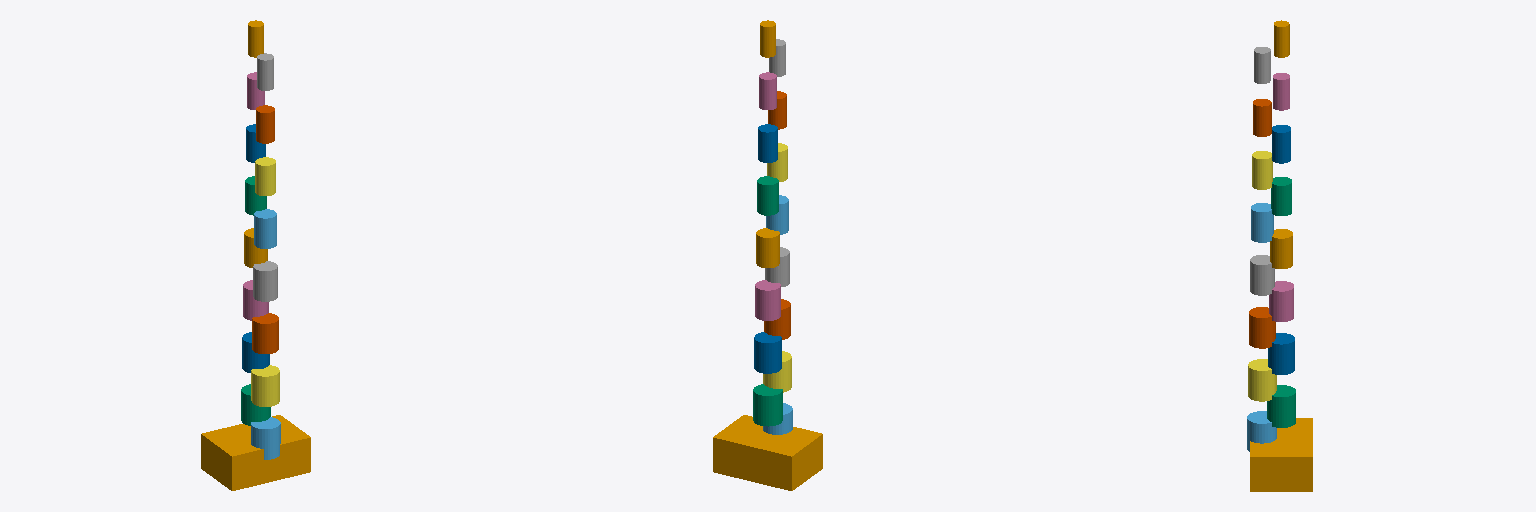
robot.urdf — mini_cheetah_urdf:
<?xml version="1.0" encoding="utf-8"?>
<!-- LOCAL_GENERATED_DEMONSTRATION_NOT_UPSTREAM: 历史本地生成的示意链，非原厂/上游原件；不可用于真实结构或控制验证。真实来源请从档案目录选择 PRIMARY 文件。 -->
<!-- =================================================================================== -->
<!-- 历史生成示意（非上游原件）: mini_cheetah_urdf (urdf/laikago_toes_limits.urdf)                                          -->
<!-- 机型描述: MIT 麻省理工 Mini Cheetah 猎豹高动态四足机器人 URDF 基准                                                                   -->
<!-- 历史目录机型统计（并非本示意链）: 17 连杆 / 16 关节                                                    -->
<!-- =================================================================================== -->
<robot name="mini_cheetah_urdf">
  <link name="base_link">
    <inertial>
      <origin xyz="0 0 0.08" rpy="0 0 0"/>
      <mass value="16.40"/>
      <inertia ixx="0.185" ixy="0.0" ixz="0.0" iyy="0.240" iyz="0.0" izz="0.295"/>
    </inertial>
    <visual>
      <origin xyz="0 0 0.08" rpy="0 0 0"/>
      <geometry><box size="0.38 0.26 0.16"/></geometry>
    </visual>
    <collision>
      <origin xyz="0 0 0.08" rpy="0 0 0"/>
      <geometry><box size="0.38 0.26 0.16"/></geometry>
    </collision>
  </link>

  <link name="link_1">
    <inertial>
      <origin xyz="0 0 0.06" rpy="0 0 0"/>
      <mass value="3.200"/>
      <inertia ixx="0.014" ixy="0.0" ixz="0.0" iyy="0.014" iyz="0.0" izz="0.008"/>
    </inertial>
    <visual>
      <origin xyz="0 0 0.06" rpy="0 0 0"/>
      <geometry><cylinder radius="0.063" length="0.14"/></geometry>
    </visual>
  </link>
  <joint name="joint_1" type="revolute">
    <parent link="base_link"/>
    <child link="link_1"/>
    <origin xyz="0 -0.080 0.12" rpy="0 0 0"/>
    <axis xyz="1 0 0"/>
    <limit lower="-2.7925" upper="2.7925" effort="85.0" velocity="6.28"/>
  </joint>

  <link name="link_2">
    <inertial>
      <origin xyz="0 0 0.06" rpy="0 0 0"/>
      <mass value="2.263"/>
      <inertia ixx="0.014" ixy="0.0" ixz="0.0" iyy="0.014" iyz="0.0" izz="0.008"/>
    </inertial>
    <visual>
      <origin xyz="0 0 0.06" rpy="0 0 0"/>
      <geometry><cylinder radius="0.061" length="0.14"/></geometry>
    </visual>
  </link>
  <joint name="joint_2" type="revolute">
    <parent link="link_1"/>
    <child link="link_2"/>
    <origin xyz="0 0.080 0.12" rpy="0 0 0"/>
    <axis xyz="0 1 0"/>
    <limit lower="-2.7925" upper="2.7925" effort="85.0" velocity="6.28"/>
  </joint>

  <link name="link_3">
    <inertial>
      <origin xyz="0 0 0.06" rpy="0 0 0"/>
      <mass value="1.848"/>
      <inertia ixx="0.014" ixy="0.0" ixz="0.0" iyy="0.014" iyz="0.0" izz="0.008"/>
    </inertial>
    <visual>
      <origin xyz="0 0 0.06" rpy="0 0 0"/>
      <geometry><cylinder radius="0.059" length="0.14"/></geometry>
    </visual>
  </link>
  <joint name="joint_3" type="revolute">
    <parent link="link_2"/>
    <child link="link_3"/>
    <origin xyz="0 -0.080 0.12" rpy="0 0 0"/>
    <axis xyz="0 0 1"/>
    <limit lower="-2.7925" upper="2.7925" effort="85.0" velocity="6.28"/>
  </joint>

  <link name="link_4">
    <inertial>
      <origin xyz="0 0 0.06" rpy="0 0 0"/>
      <mass value="1.600"/>
      <inertia ixx="0.014" ixy="0.0" ixz="0.0" iyy="0.014" iyz="0.0" izz="0.008"/>
    </inertial>
    <visual>
      <origin xyz="0 0 0.06" rpy="0 0 0"/>
      <geometry><cylinder radius="0.057" length="0.14"/></geometry>
    </visual>
  </link>
  <joint name="joint_4" type="revolute">
    <parent link="link_3"/>
    <child link="link_4"/>
    <origin xyz="0 0.080 0.12" rpy="0 0 0"/>
    <axis xyz="0 1 0"/>
    <limit lower="-2.7925" upper="2.7925" effort="85.0" velocity="6.28"/>
  </joint>

  <link name="link_5">
    <inertial>
      <origin xyz="0 0 0.06" rpy="0 0 0"/>
      <mass value="1.431"/>
      <inertia ixx="0.014" ixy="0.0" ixz="0.0" iyy="0.014" iyz="0.0" izz="0.008"/>
    </inertial>
    <visual>
      <origin xyz="0 0 0.06" rpy="0 0 0"/>
      <geometry><cylinder radius="0.055" length="0.14"/></geometry>
    </visual>
  </link>
  <joint name="joint_5" type="revolute">
    <parent link="link_4"/>
    <child link="link_5"/>
    <origin xyz="0 -0.080 0.12" rpy="0 0 0"/>
    <axis xyz="1 0 0"/>
    <limit lower="-2.7925" upper="2.7925" effort="85.0" velocity="6.28"/>
  </joint>

  <link name="link_6">
    <inertial>
      <origin xyz="0 0 0.06" rpy="0 0 0"/>
      <mass value="1.306"/>
      <inertia ixx="0.014" ixy="0.0" ixz="0.0" iyy="0.014" iyz="0.0" izz="0.008"/>
    </inertial>
    <visual>
      <origin xyz="0 0 0.06" rpy="0 0 0"/>
      <geometry><cylinder radius="0.053" length="0.14"/></geometry>
    </visual>
  </link>
  <joint name="joint_6" type="revolute">
    <parent link="link_5"/>
    <child link="link_6"/>
    <origin xyz="0 0.080 0.12" rpy="0 0 0"/>
    <axis xyz="0 0 1"/>
    <limit lower="-2.7925" upper="2.7925" effort="85.0" velocity="6.28"/>
  </joint>

  <link name="link_7">
    <inertial>
      <origin xyz="0 0 0.06" rpy="0 0 0"/>
      <mass value="1.209"/>
      <inertia ixx="0.014" ixy="0.0" ixz="0.0" iyy="0.014" iyz="0.0" izz="0.008"/>
    </inertial>
    <visual>
      <origin xyz="0 0 0.06" rpy="0 0 0"/>
      <geometry><cylinder radius="0.051" length="0.14"/></geometry>
    </visual>
  </link>
  <joint name="joint_7" type="revolute">
    <parent link="link_6"/>
    <child link="link_7"/>
    <origin xyz="0 -0.080 0.12" rpy="0 0 0"/>
    <axis xyz="1 0 0"/>
    <limit lower="-2.7925" upper="2.7925" effort="85.0" velocity="6.28"/>
  </joint>

  <link name="link_8">
    <inertial>
      <origin xyz="0 0 0.06" rpy="0 0 0"/>
      <mass value="1.131"/>
      <inertia ixx="0.014" ixy="0.0" ixz="0.0" iyy="0.014" iyz="0.0" izz="0.008"/>
    </inertial>
    <visual>
      <origin xyz="0 0 0.06" rpy="0 0 0"/>
      <geometry><cylinder radius="0.049" length="0.14"/></geometry>
    </visual>
  </link>
  <joint name="joint_8" type="revolute">
    <parent link="link_7"/>
    <child link="link_8"/>
    <origin xyz="0 0.080 0.12" rpy="0 0 0"/>
    <axis xyz="0 1 0"/>
    <limit lower="-2.7925" upper="2.7925" effort="85.0" velocity="6.28"/>
  </joint>

  <link name="link_9">
    <inertial>
      <origin xyz="0 0 0.06" rpy="0 0 0"/>
      <mass value="1.067"/>
      <inertia ixx="0.014" ixy="0.0" ixz="0.0" iyy="0.014" iyz="0.0" izz="0.008"/>
    </inertial>
    <visual>
      <origin xyz="0 0 0.06" rpy="0 0 0"/>
      <geometry><cylinder radius="0.047" length="0.14"/></geometry>
    </visual>
  </link>
  <joint name="joint_9" type="revolute">
    <parent link="link_8"/>
    <child link="link_9"/>
    <origin xyz="0 -0.080 0.12" rpy="0 0 0"/>
    <axis xyz="0 0 1"/>
    <limit lower="-2.7925" upper="2.7925" effort="85.0" velocity="6.28"/>
  </joint>

  <link name="link_10">
    <inertial>
      <origin xyz="0 0 0.06" rpy="0 0 0"/>
      <mass value="1.012"/>
      <inertia ixx="0.014" ixy="0.0" ixz="0.0" iyy="0.014" iyz="0.0" izz="0.008"/>
    </inertial>
    <visual>
      <origin xyz="0 0 0.06" rpy="0 0 0"/>
      <geometry><cylinder radius="0.045" length="0.14"/></geometry>
    </visual>
  </link>
  <joint name="joint_10" type="revolute">
    <parent link="link_9"/>
    <child link="link_10"/>
    <origin xyz="0 0.080 0.12" rpy="0 0 0"/>
    <axis xyz="0 1 0"/>
    <limit lower="-2.7925" upper="2.7925" effort="85.0" velocity="6.28"/>
  </joint>

  <link name="link_11">
    <inertial>
      <origin xyz="0 0 0.06" rpy="0 0 0"/>
      <mass value="0.965"/>
      <inertia ixx="0.014" ixy="0.0" ixz="0.0" iyy="0.014" iyz="0.0" izz="0.008"/>
    </inertial>
    <visual>
      <origin xyz="0 0 0.06" rpy="0 0 0"/>
      <geometry><cylinder radius="0.043" length="0.14"/></geometry>
    </visual>
  </link>
  <joint name="joint_11" type="revolute">
    <parent link="link_10"/>
    <child link="link_11"/>
    <origin xyz="0 -0.080 0.12" rpy="0 0 0"/>
    <axis xyz="1 0 0"/>
    <limit lower="-2.7925" upper="2.7925" effort="85.0" velocity="6.28"/>
  </joint>

  <link name="link_12">
    <inertial>
      <origin xyz="0 0 0.06" rpy="0 0 0"/>
      <mass value="0.924"/>
      <inertia ixx="0.014" ixy="0.0" ixz="0.0" iyy="0.014" iyz="0.0" izz="0.008"/>
    </inertial>
    <visual>
      <origin xyz="0 0 0.06" rpy="0 0 0"/>
      <geometry><cylinder radius="0.041" length="0.14"/></geometry>
    </visual>
  </link>
  <joint name="joint_12" type="revolute">
    <parent link="link_11"/>
    <child link="link_12"/>
    <origin xyz="0 0.080 0.12" rpy="0 0 0"/>
    <axis xyz="0 0 1"/>
    <limit lower="-2.7925" upper="2.7925" effort="85.0" velocity="6.28"/>
  </joint>

  <link name="link_13">
    <inertial>
      <origin xyz="0 0 0.06" rpy="0 0 0"/>
      <mass value="0.888"/>
      <inertia ixx="0.014" ixy="0.0" ixz="0.0" iyy="0.014" iyz="0.0" izz="0.008"/>
    </inertial>
    <visual>
      <origin xyz="0 0 0.06" rpy="0 0 0"/>
      <geometry><cylinder radius="0.039" length="0.14"/></geometry>
    </visual>
  </link>
  <joint name="joint_13" type="revolute">
    <parent link="link_12"/>
    <child link="link_13"/>
    <origin xyz="0 -0.080 0.12" rpy="0 0 0"/>
    <axis xyz="1 0 0"/>
    <limit lower="-2.7925" upper="2.7925" effort="85.0" velocity="6.28"/>
  </joint>

  <link name="link_14">
    <inertial>
      <origin xyz="0 0 0.06" rpy="0 0 0"/>
      <mass value="0.855"/>
      <inertia ixx="0.014" ixy="0.0" ixz="0.0" iyy="0.014" iyz="0.0" izz="0.008"/>
    </inertial>
    <visual>
      <origin xyz="0 0 0.06" rpy="0 0 0"/>
      <geometry><cylinder radius="0.037" length="0.14"/></geometry>
    </visual>
  </link>
  <joint name="joint_14" type="revolute">
    <parent link="link_13"/>
    <child link="link_14"/>
    <origin xyz="0 0.080 0.12" rpy="0 0 0"/>
    <axis xyz="0 1 0"/>
    <limit lower="-2.7925" upper="2.7925" effort="85.0" velocity="6.28"/>
  </joint>

  <link name="link_15">
    <inertial>
      <origin xyz="0 0 0.06" rpy="0 0 0"/>
      <mass value="0.826"/>
      <inertia ixx="0.014" ixy="0.0" ixz="0.0" iyy="0.014" iyz="0.0" izz="0.008"/>
    </inertial>
    <visual>
      <origin xyz="0 0 0.06" rpy="0 0 0"/>
      <geometry><cylinder radius="0.035" length="0.14"/></geometry>
    </visual>
  </link>
  <joint name="joint_15" type="revolute">
    <parent link="link_14"/>
    <child link="link_15"/>
    <origin xyz="0 -0.080 0.12" rpy="0 0 0"/>
    <axis xyz="0 0 1"/>
    <limit lower="-2.7925" upper="2.7925" effort="85.0" velocity="6.28"/>
  </joint>

  <link name="link_16">
    <inertial>
      <origin xyz="0 0 0.06" rpy="0 0 0"/>
      <mass value="0.800"/>
      <inertia ixx="0.014" ixy="0.0" ixz="0.0" iyy="0.014" iyz="0.0" izz="0.008"/>
    </inertial>
    <visual>
      <origin xyz="0 0 0.06" rpy="0 0 0"/>
      <geometry><cylinder radius="0.033" length="0.14"/></geometry>
    </visual>
  </link>
  <joint name="joint_16" type="revolute">
    <parent link="link_15"/>
    <child link="link_16"/>
    <origin xyz="0 0.080 0.12" rpy="0 0 0"/>
    <axis xyz="0 1 0"/>
    <limit lower="-2.7925" upper="2.7925" effort="85.0" velocity="6.28"/>
  </joint>
</robot>

--- Facts derived from the render (not from the file) ---
The picture shows the robot from 3 angles, left to right: view 1: azimuth 30°, elevation 25°; view 2: azimuth 150°, elevation 25°; view 3: azimuth 270°, elevation 25°; orthographic projection.
Model mini_cheetah_urdf with 17 links and 16 joints (16 revolute), rooted at base_link, posed every joint at zero.
Links seen in each view (by area): view 1: base_link, link_3, link_5, link_1, link_7, link_9, link_11, link_13, link_2, link_4, link_6, link_15 (+3 smaller); view 2: base_link, link_2, link_4, link_6, link_8, link_10, link_12, link_3, link_14, link_5, link_7, link_16 (+2 smaller); view 3: base_link, link_2, link_3, link_4, link_5, link_6, link_7, link_8, link_9, link_1, link_10, link_11 (+5 smaller).
Link boxes in pixels (<box>): base_link: <box>201,415,310,490</box>; link_3: <box>251,365,279,406</box>; link_5: <box>252,313,278,353</box>; link_1: <box>251,417,280,459</box>; link_7: <box>253,261,277,301</box>; link_9: <box>254,209,276,248</box>; link_11: <box>255,157,275,195</box>; link_13: <box>256,105,274,143</box>; link_2: <box>241,384,270,425</box>; link_4: <box>242,332,269,372</box>; link_6: <box>243,280,268,320</box>; link_15: <box>257,53,273,90</box>; base_link: <box>713,415,822,490</box>; link_2: <box>753,384,782,426</box>; link_4: <box>754,332,781,373</box>; link_6: <box>755,280,780,320</box>; link_8: <box>756,228,779,267</box>; link_10: <box>757,176,778,215</box>; link_12: <box>758,124,777,162</box>; link_3: <box>763,351,791,392</box>; link_14: <box>759,72,776,109</box>; link_5: <box>764,299,790,339</box>; link_7: <box>765,247,789,286</box>; link_16: <box>760,20,775,57</box>; base_link: <box>1250,418,1312,491</box>; link_2: <box>1267,385,1295,427</box>; link_3: <box>1248,359,1276,401</box>; link_4: <box>1268,333,1294,374</box>; link_5: <box>1249,307,1275,348</box>; link_6: <box>1269,281,1293,321</box>; link_7: <box>1250,255,1274,295</box>; link_8: <box>1270,229,1292,268</box>; link_9: <box>1251,203,1273,242</box>; link_1: <box>1247,411,1276,451</box>; link_10: <box>1271,177,1291,215</box>; link_11: <box>1252,151,1272,189</box>.
Size in the robot's own frame: 0.38 by 0.273 by 2.05 metres.
Geometry: primitives only (box / cylinder / sphere), no mesh files.
